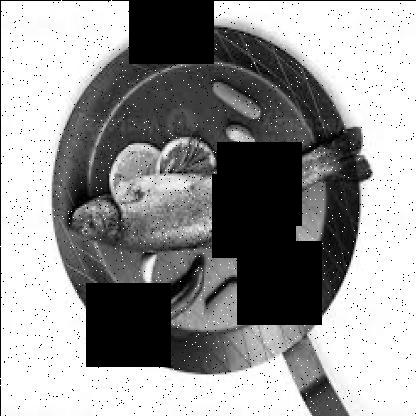fish: (68, 130, 372, 254)
